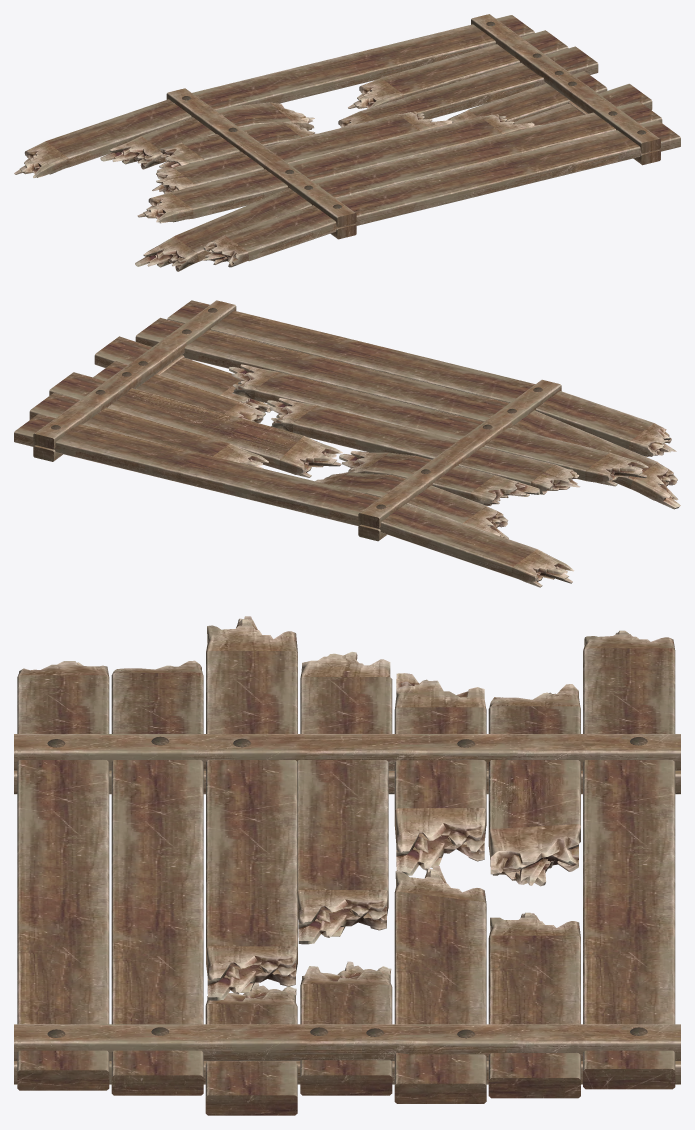
3 views of the same model, one above another, from view 1: azimuth 30°, elevation 25°; view 2: azimuth 150°, elevation 25°; view 3: azimuth 270°, elevation 25° (orthographic). The views are drawn at different scales.
Parts seen in each view (by area): view 1: SM_BrokenWood_Platform_02_LOD0; view 2: SM_BrokenWood_Platform_02_LOD0; view 3: SM_BrokenWood_Platform_02_LOD0.
Part boxes in pixels (bbox=[...]): SM_BrokenWood_Platform_02_LOD0: bbox=[14, 14, 680, 271]; SM_BrokenWood_Platform_02_LOD0: bbox=[14, 300, 680, 587]; SM_BrokenWood_Platform_02_LOD0: bbox=[14, 616, 680, 1115].
Size of the model in its own units: 7.19 by 0.5957 by 4.01.
Materials: 2 (2 with a texture image).
